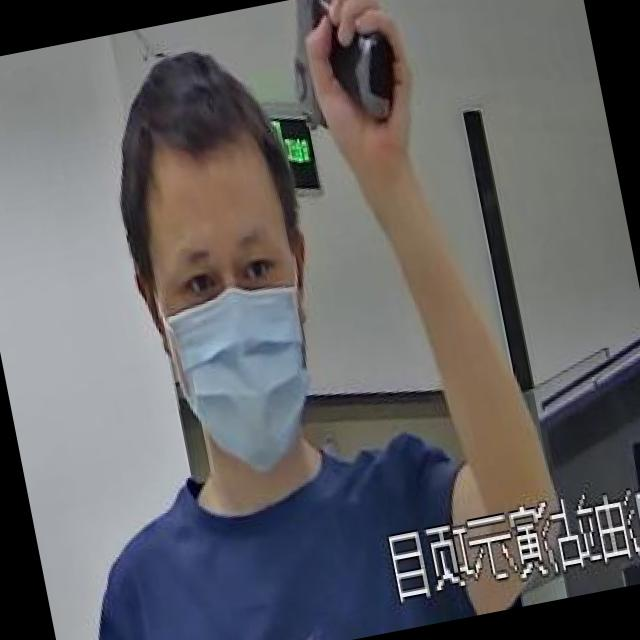Guns: (251, 0, 430, 182)
